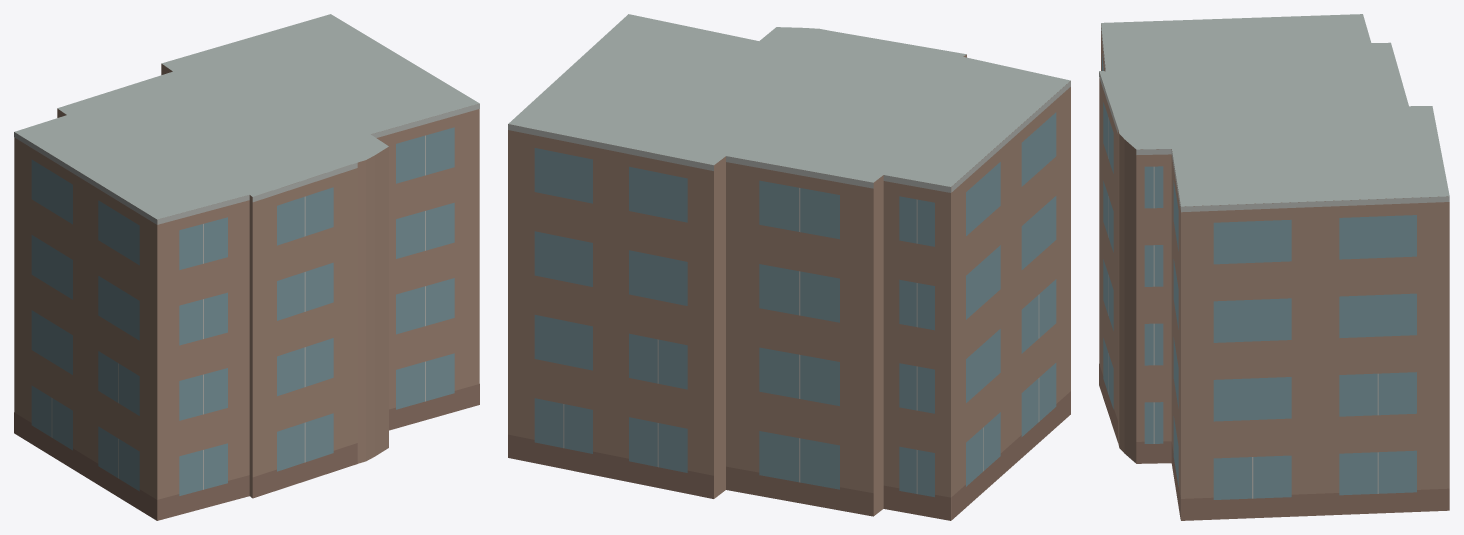
The model's file is survey-upis-32937330.glb.
The picture shows the model from 3 angles, left to right: view 1: azimuth 30°, elevation 25°; view 2: azimuth 150°, elevation 25°; view 3: azimuth 270°, elevation 25°; orthographic projection. The views are drawn at different scales.
Visible parts, largest first — view 1: survey-upis-32937330.tmp; view 2: survey-upis-32937330.tmp; view 3: survey-upis-32937330.tmp.
Boxes of the visible parts, x1,y1,x2,y2 form: survey-upis-32937330.tmp: (14,14,479,520); survey-upis-32937330.tmp: (508,14,1070,520); survey-upis-32937330.tmp: (1099,14,1449,520).
Bounding box in the file's own units: 17.95 × 13.65 × 13.81.
